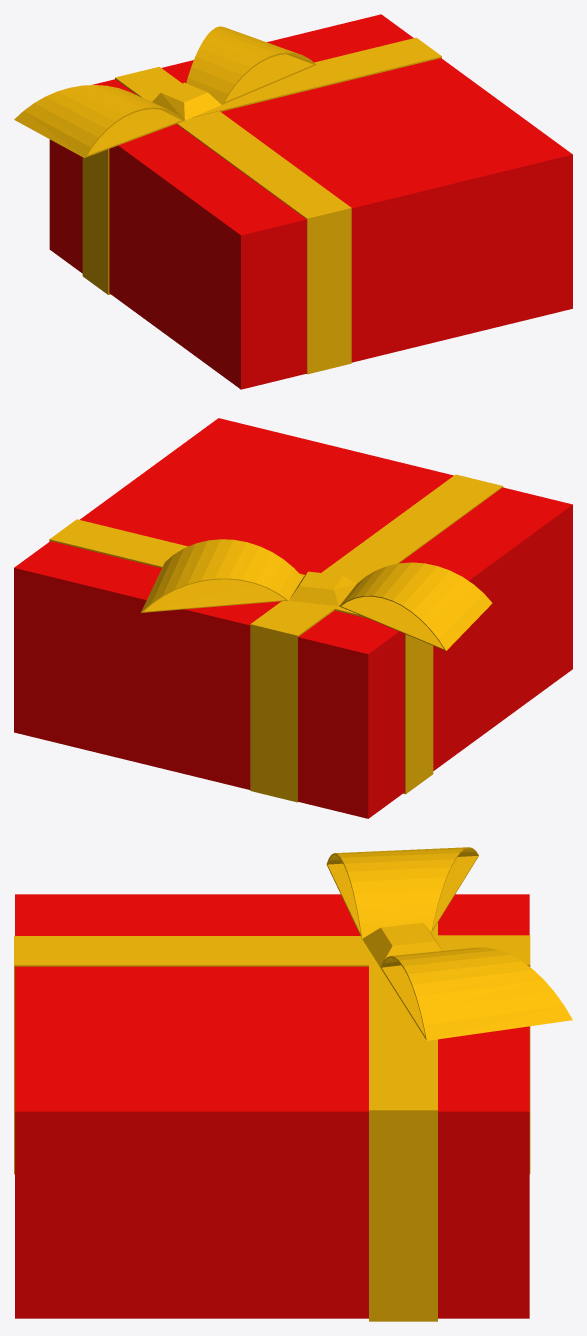
Rendered from Prop_Christmas_Present_Red_04.FBX.
The picture shows the model from 3 angles, top to bottom: view 1: azimuth 30°, elevation 25°; view 2: azimuth 150°, elevation 25°; view 3: azimuth 270°, elevation 25°; orthographic projection. The views are drawn at different scales.
Visible parts, largest first — view 1: Prop_Christmas_Present_Red_04; view 2: Prop_Christmas_Present_Red_04; view 3: Prop_Christmas_Present_Red_04.
Boxes of the visible parts, <box> form: Prop_Christmas_Present_Red_04: <box>14,14,572,389</box>; Prop_Christmas_Present_Red_04: <box>14,418,572,818</box>; Prop_Christmas_Present_Red_04: <box>14,847,572,1321</box>.
Size of the model in its own units: 387 by 178 by 360.
